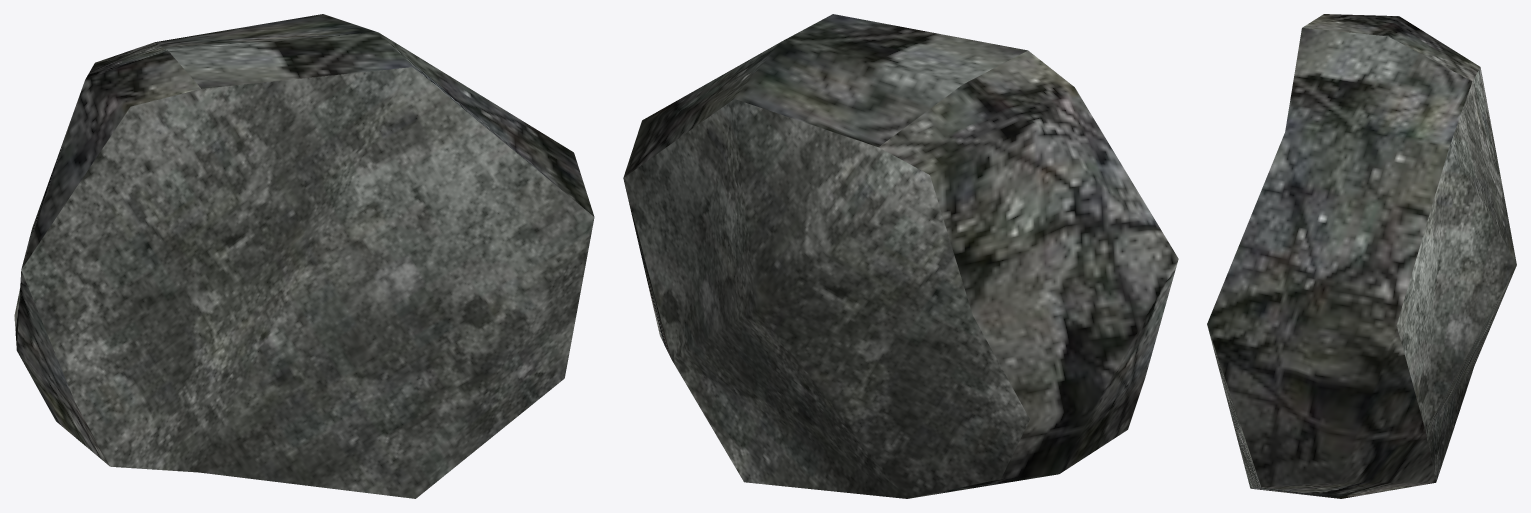
The model's file is prop_rubble_rock_02.glb.
3 renders of one model, left to right at view 1: azimuth 30°, elevation 25°; view 2: azimuth 150°, elevation 25°; view 3: azimuth 270°, elevation 25°, orthographic. The views are drawn at different scales.
Size of the model in its own units: 44.79 by 34.8 by 25.31.
Materials: 2 (2 with a texture image).
